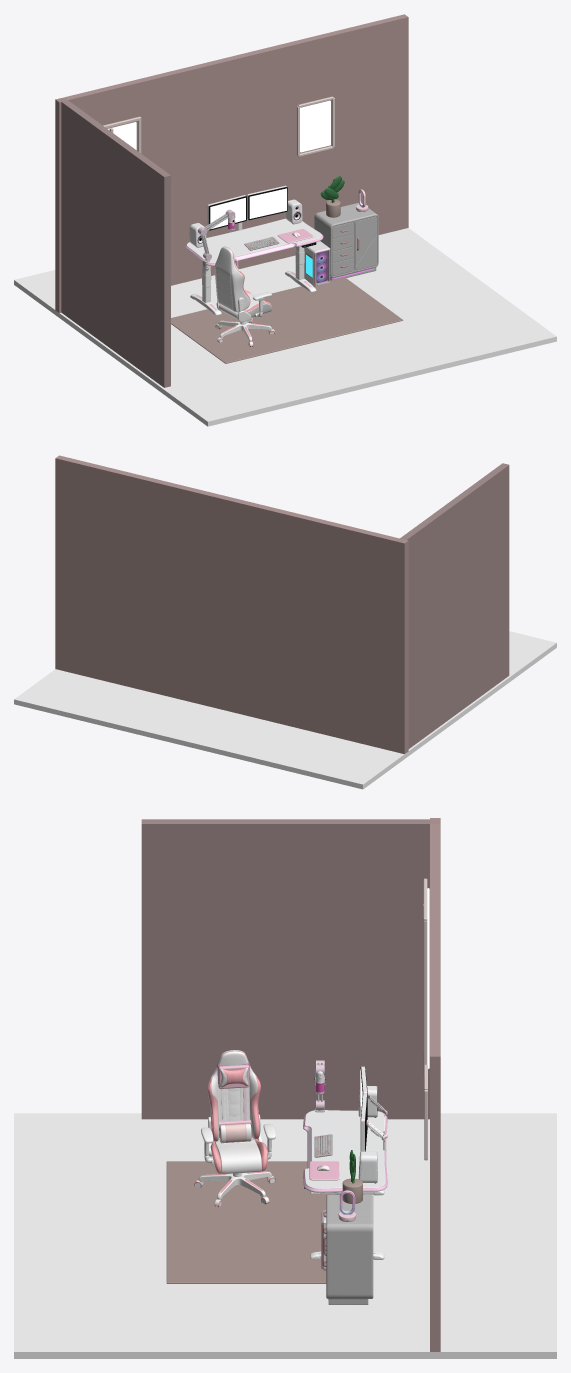
The picture shows the model from 3 angles, top to bottom: view 1: azimuth 30°, elevation 25°; view 2: azimuth 150°, elevation 25°; view 3: azimuth 270°, elevation 25°; orthographic projection. The views are drawn at different scales.
Visible parts, largest first — view 1: Architecture_Back_Wall, Architecture_Floor, Architecture_Left_Wall, Decor_Rug, GEO_Desk_Moving_Top, GEO_Chair_Swivel_Upper, GEO_Cabinet_Body, Wall_Art_Art, GEO_Door_Right_Front, 04-pc-tower_mesh_01, Screen_Right, GEO_Desk_Fixed_Base (+2 smaller); view 2: Architecture_Back_Wall, Architecture_Left_Wall, Architecture_Floor; view 3: Architecture_Floor, Architecture_Left_Wall, Decor_Rug, Architecture_Back_Wall, GEO_Chair_Swivel_Upper, GEO_Cabinet_Body, GEO_Desk_Moving_Top, GEO_Chair_Static_Base, Window_Frame_V.001.
Boxes of the visible parts, x1,y1,x2,y2 form: Architecture_Back_Wall: (55, 14, 408, 312); Architecture_Floor: (14, 228, 556, 426); Architecture_Left_Wall: (58, 98, 170, 387); Decor_Rug: (171, 277, 403, 363); GEO_Desk_Moving_Top: (185, 218, 323, 274); GEO_Chair_Swivel_Upper: (215, 246, 272, 321); GEO_Cabinet_Body: (314, 202, 378, 280); Wall_Art_Art: (300, 100, 330, 152); GEO_Door_Right_Front: (355, 216, 377, 270); 04-pc-tower_mesh_01: (304, 241, 330, 286); Screen_Right: (249, 188, 286, 218); GEO_Desk_Fixed_Base: (190, 263, 316, 315); Architecture_Back_Wall: (55, 455, 408, 753); Architecture_Left_Wall: (396, 463, 509, 748); Architecture_Floor: (14, 631, 556, 789); Architecture_Floor: (14, 1113, 556, 1358); Architecture_Left_Wall: (141, 819, 440, 1119); Decor_Rug: (166, 1161, 334, 1283); Architecture_Back_Wall: (430, 818, 440, 1351); GEO_Chair_Swivel_Upper: (201, 1050, 275, 1173); GEO_Cabinet_Body: (326, 1194, 373, 1304); GEO_Desk_Moving_Top: (303, 1110, 387, 1194); GEO_Chair_Static_Base: (194, 1171, 275, 1206); Window_Frame_V.001: (423, 921, 427, 1075).
Bounding box in the file's own units: 5.2 × 3.07 × 5.
32 materials, 13 textured.
